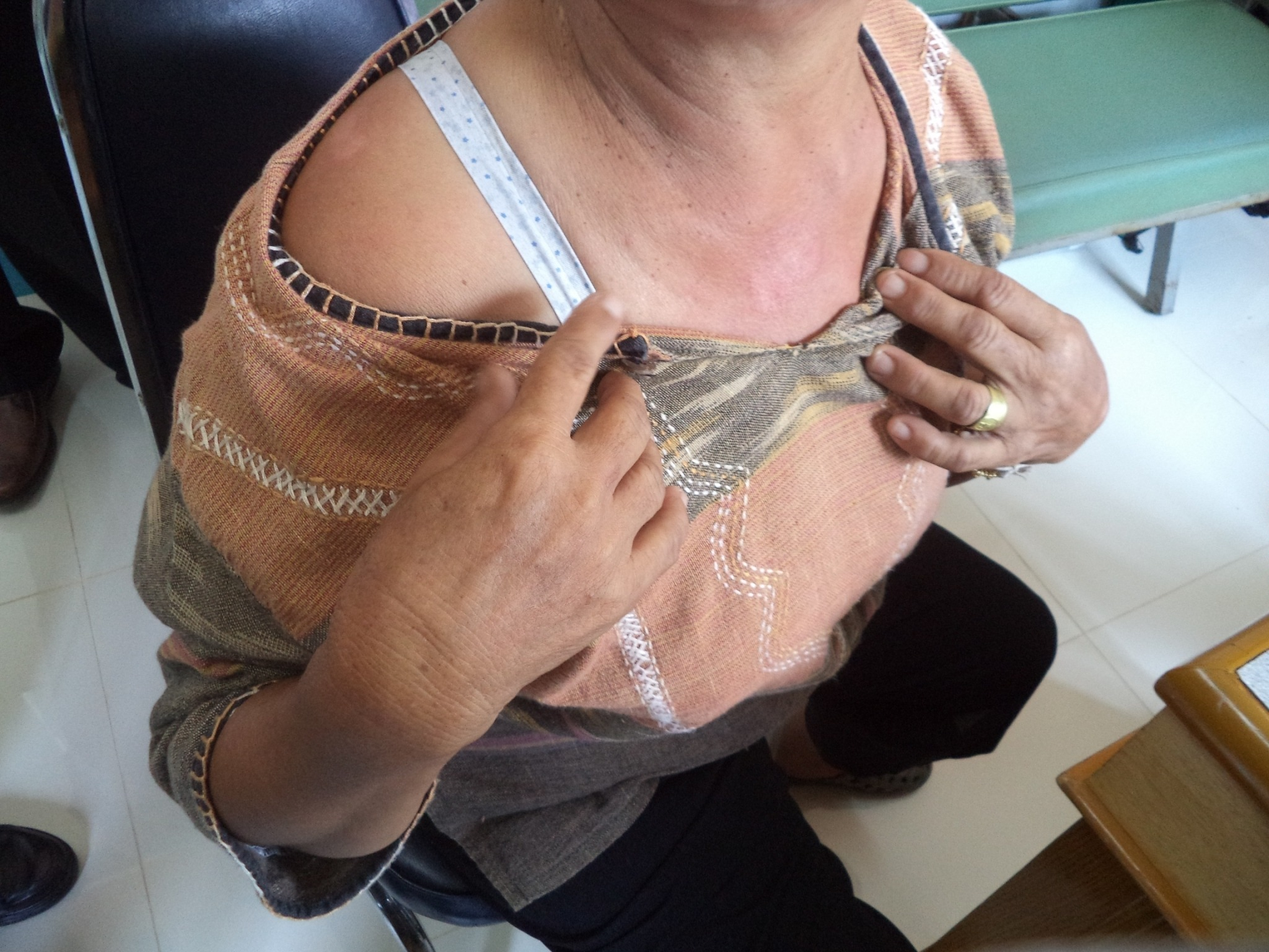Leprosy: (737, 221, 838, 316), (323, 115, 377, 169)
